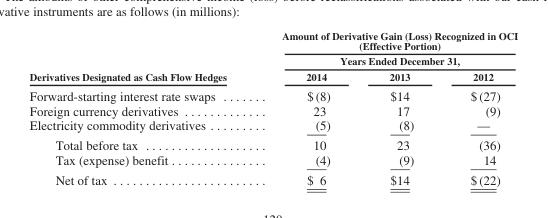table: (28, 28, 517, 186)
table column: (28, 28, 253, 186), (253, 28, 359, 186), (359, 28, 441, 186), (441, 28, 517, 186)
table column header: (28, 28, 517, 85)
table row: (28, 28, 517, 68), (28, 134, 517, 152), (28, 68, 517, 85), (28, 85, 517, 102), (28, 117, 517, 134), (28, 152, 517, 169), (28, 169, 517, 186), (28, 102, 517, 117)
table spanning cell: (28, 28, 253, 85), (253, 28, 517, 68)
